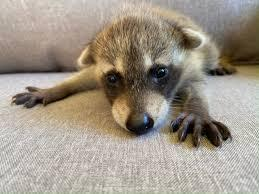raccoon: (5, 0, 252, 165)
